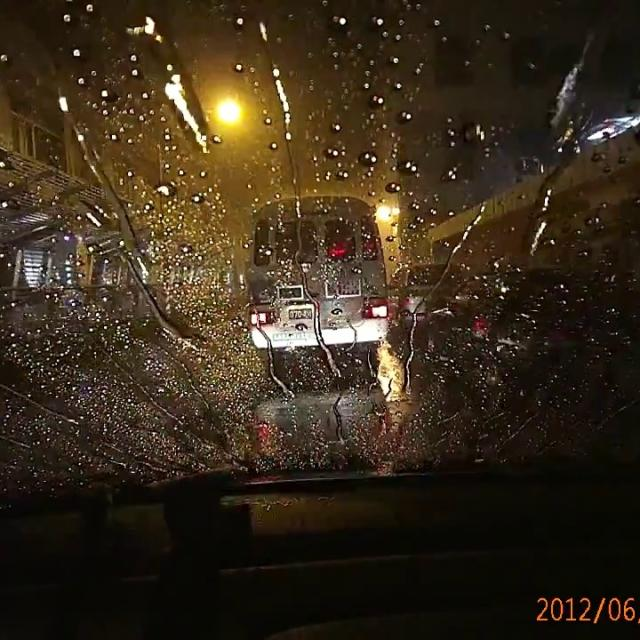Car: (393, 265, 472, 340)
